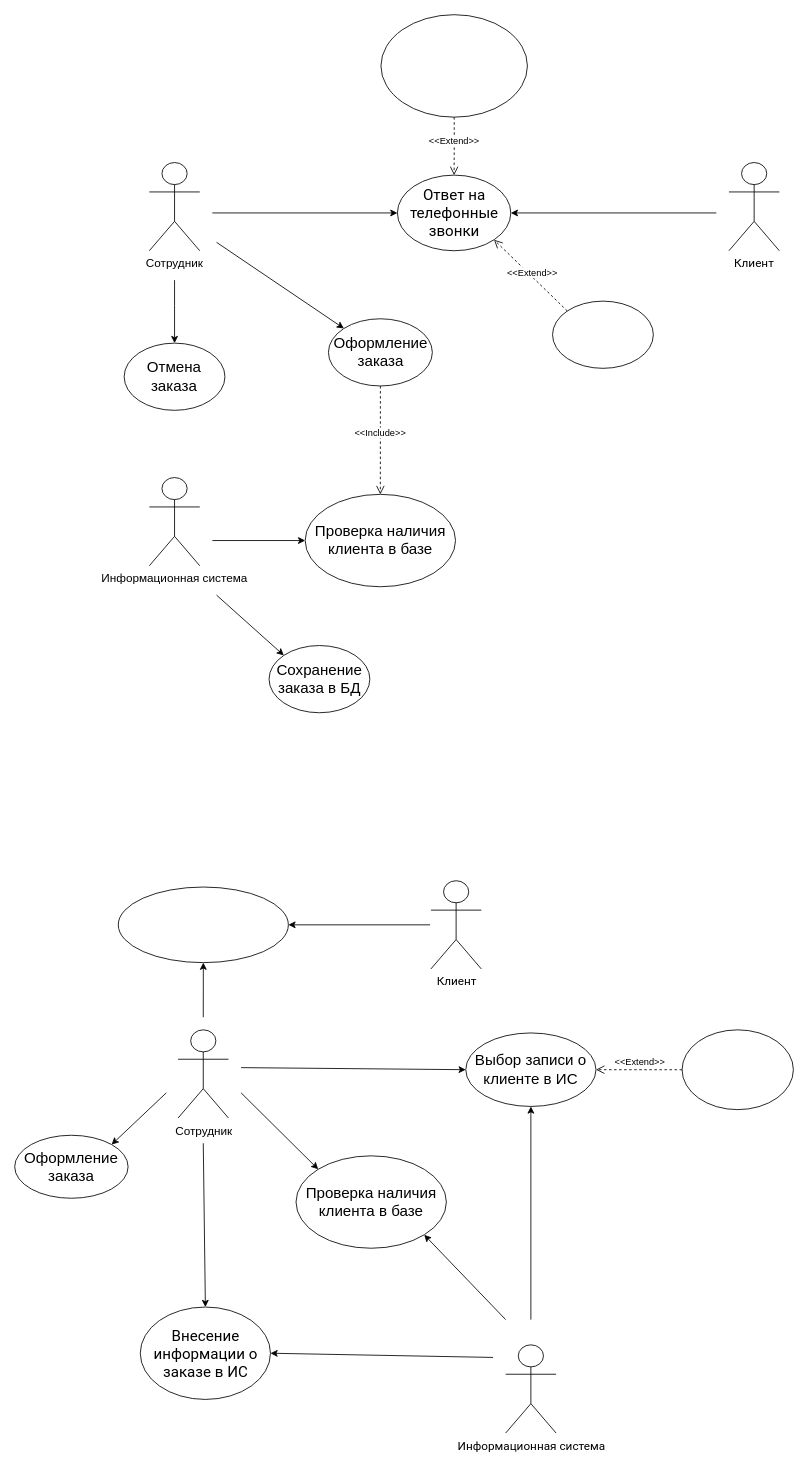
Some shapes in this 808 by 1467 pixel diagram are drawn without their labels. Each missing label, with the box of its shape:
Получение заказа: (552, 300, 653, 368)
Предоставление информации о ценах: (380, 14, 527, 117)
Регистрация клиента в ИС: (681, 1029, 793, 1110)
Уточнение персональных данных клиента: (117, 886, 288, 963)
